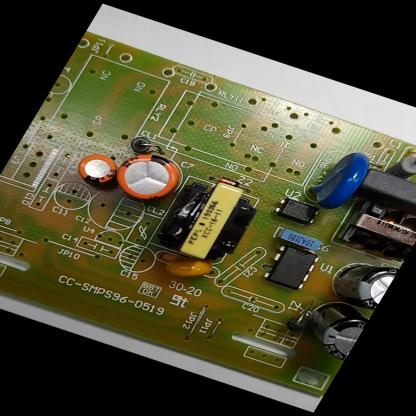Cap1: (100, 140, 195, 214)
Cap2: (67, 145, 130, 193)
Cap3: (322, 250, 400, 315)
Cap4: (282, 291, 374, 364)
MOSFET: (254, 238, 328, 297)
Mov: (296, 140, 382, 220)
Resistor: (382, 147, 416, 186)
Transformer: (144, 169, 271, 272), (326, 190, 416, 267)
